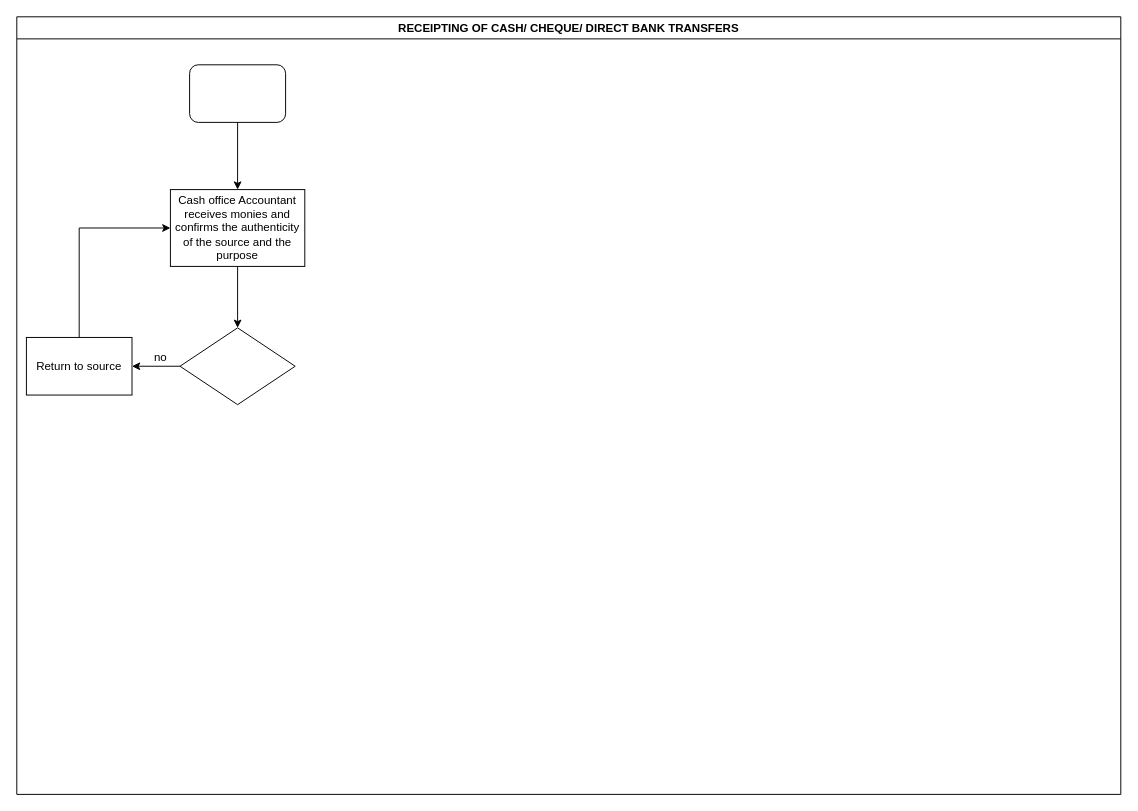
Some shapes in this 1138 by 811 pixel diagram are drawn without their labels. The centre of each missing label's shape, as x and y in pixels:
Is Money KEFRI's?: (x=237, y=366)
Start: (x=237, y=93)
